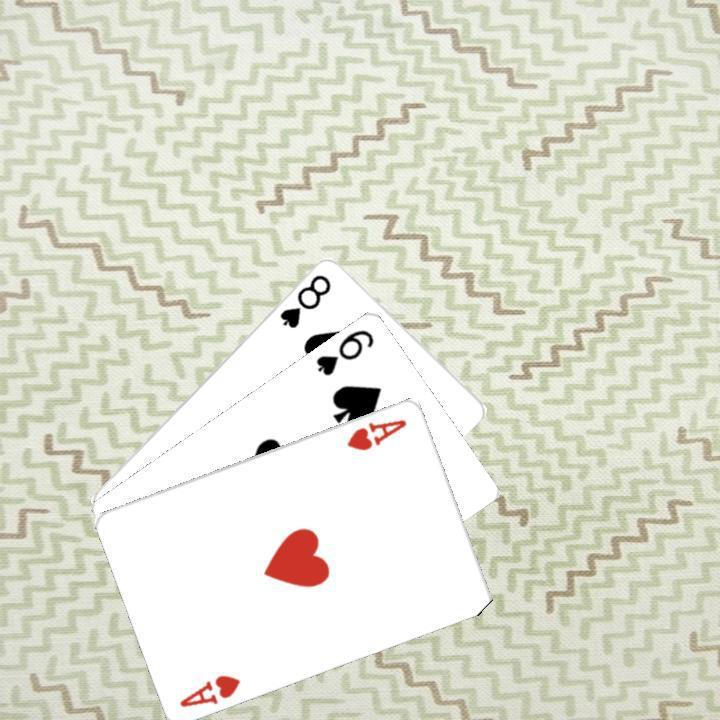6: (312, 324, 377, 378)
8: (275, 269, 333, 330)
A: (175, 669, 243, 709), (342, 414, 409, 452)
